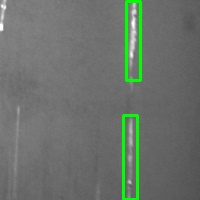scratches: (123, 115, 137, 199), (126, 1, 140, 80)
